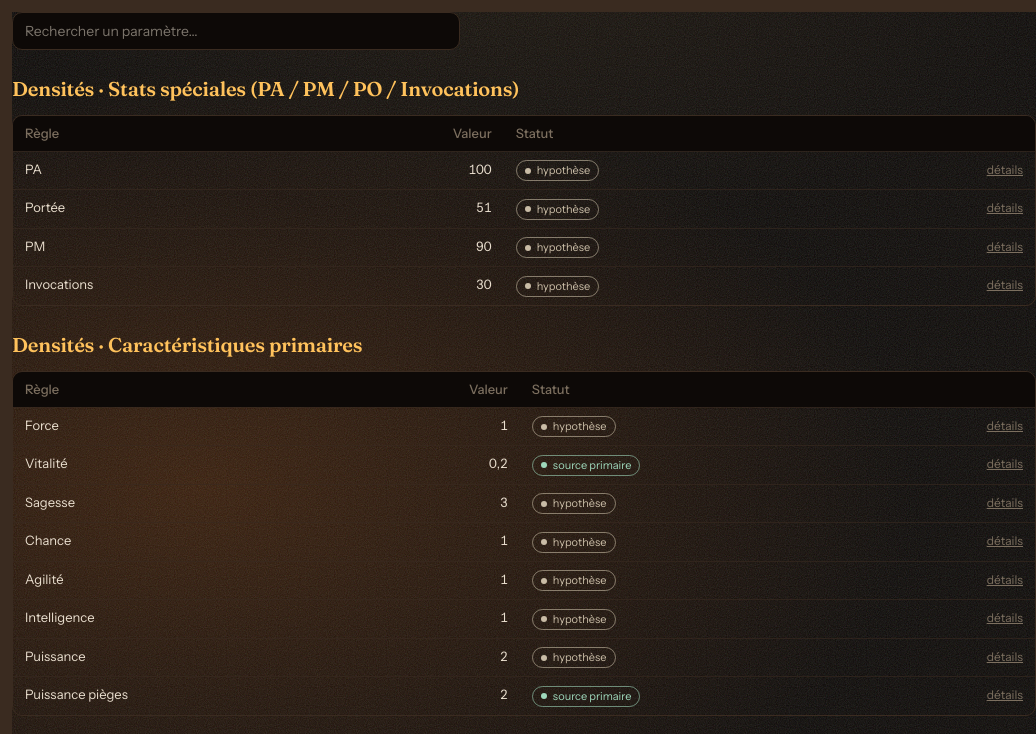
Test: DossierTab › la recherche filtre et annonce l’absence de résultat
Type "zzzz-aucun" into the search field labelled "Rechercher un paramètre" at (236, 31), box [12,12,460,50]
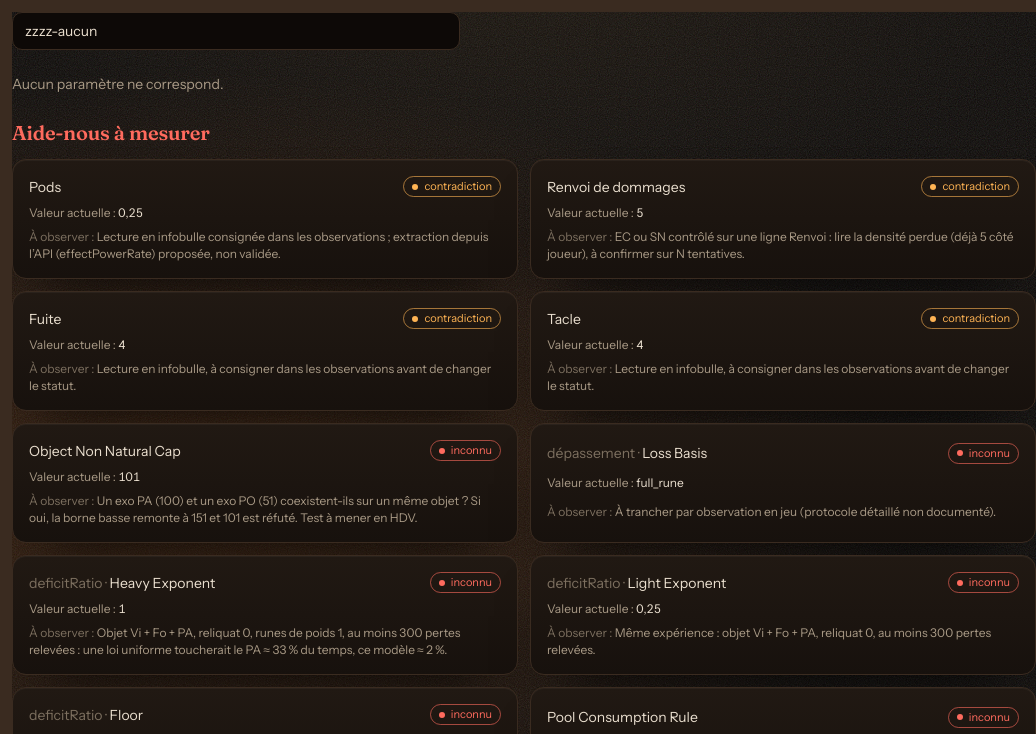
Expected: the text "Aucun paramètre ne correspond." is shown, [12,75,224,93]
